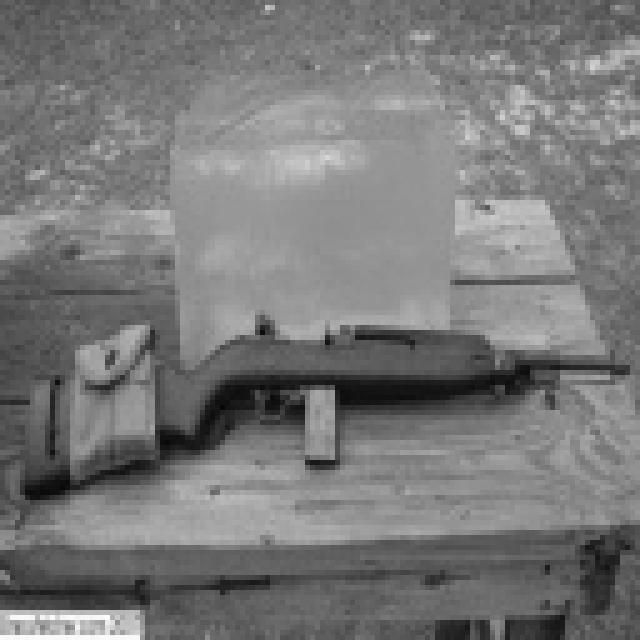Rifle: (23, 292, 640, 530)
